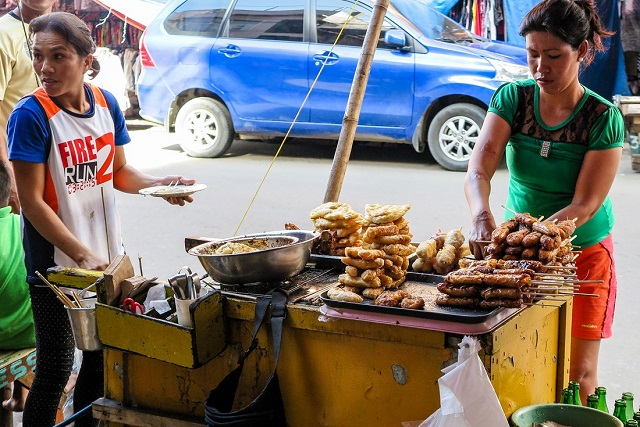car: (140, 2, 484, 159)
cart: (87, 205, 576, 427)
person: (485, 1, 623, 394), (26, 12, 133, 387)
